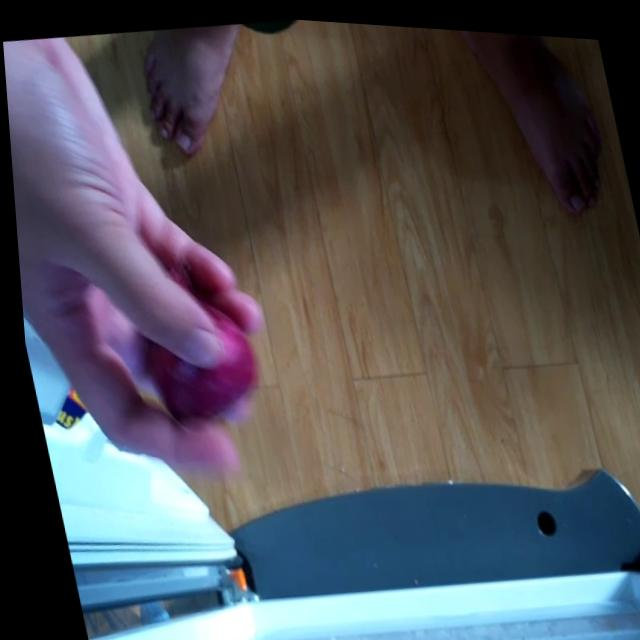onion: (126, 264, 266, 427)
